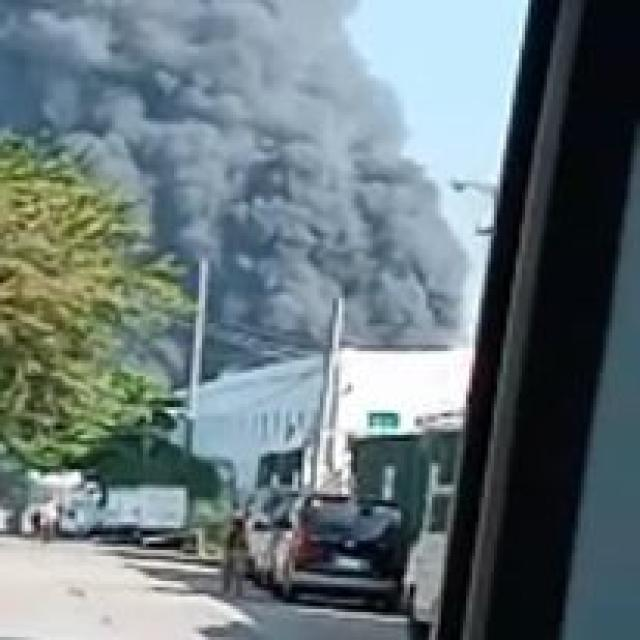Smoke: (0, 0, 469, 367)
